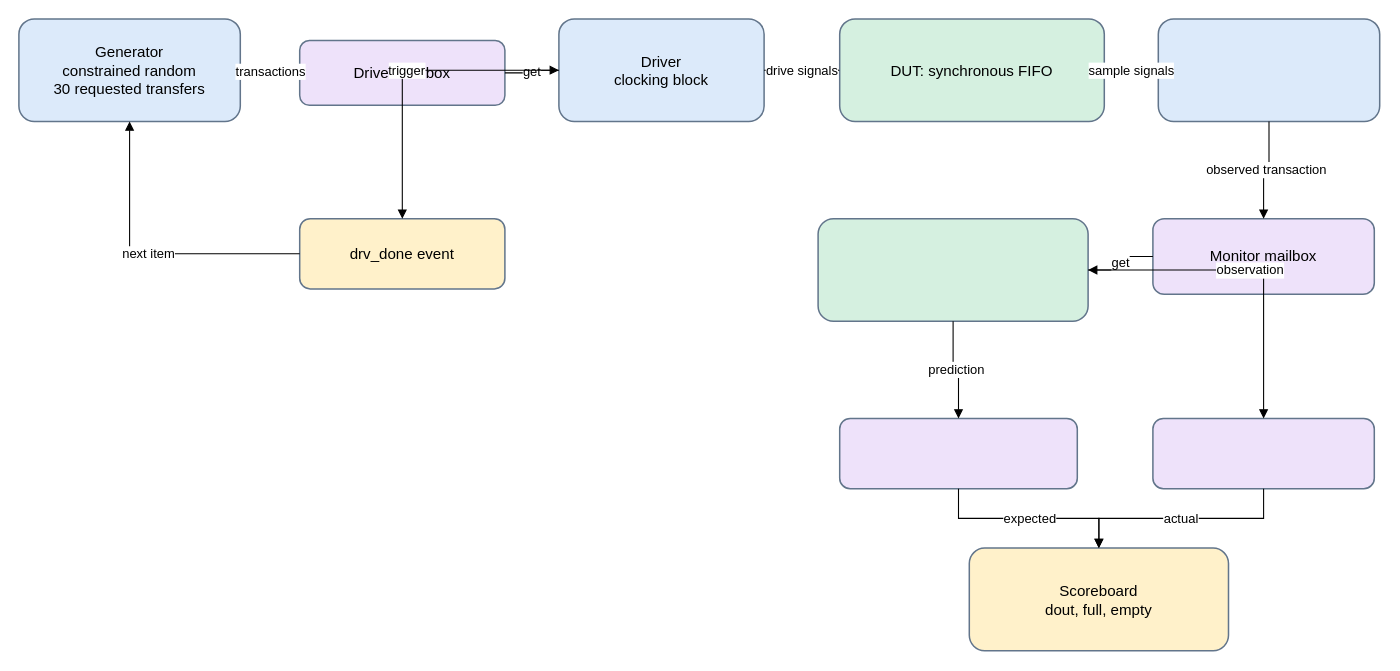
The diagram is 1400 pixels wide and 671 high, and some of its shapes have lost their labels. Here are the shapes that lost their labels. From the top down, the centre of each, then its label:
the point at 1268,70: Monitor clocking block
the point at 952,269: Queue-based reference model
the point at 958,453: Expected mailbox
the point at 1263,453: Actual mailbox
